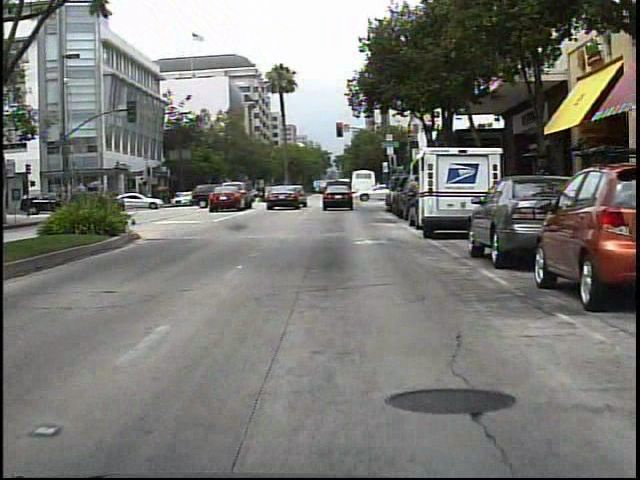person: (525, 149, 557, 237), (264, 182, 265, 206)
